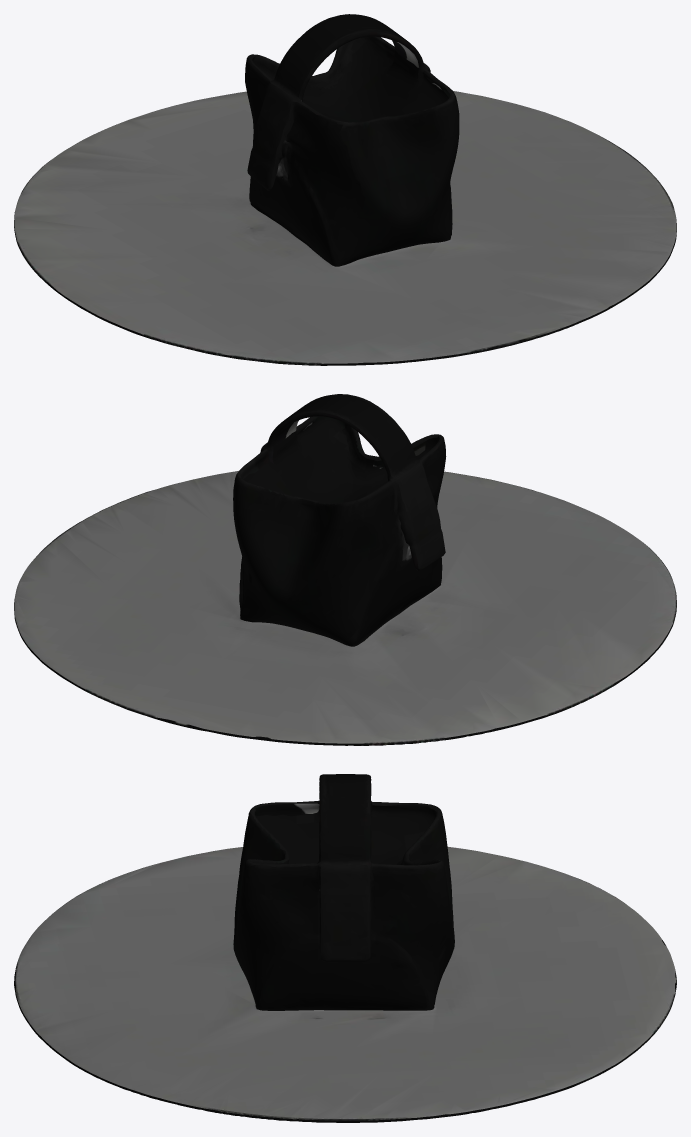
File: acessorios-simple.glb
3 renders of one model, top to bottom at view 1: azimuth 30°, elevation 25°; view 2: azimuth 150°, elevation 25°; view 3: azimuth 270°, elevation 25°, orthographic.
Visible parts, largest first — view 1: textured_mesh; view 2: textured_mesh; view 3: textured_mesh.
Part boxes in pixels (x1,y1,x2,y2): textured_mesh: [14, 14, 676, 365]; textured_mesh: [14, 394, 676, 745]; textured_mesh: [14, 774, 676, 1122].
Size of the model in its own units: 1.99 by 0.6783 by 1.99.
1 material, 1 textured.
